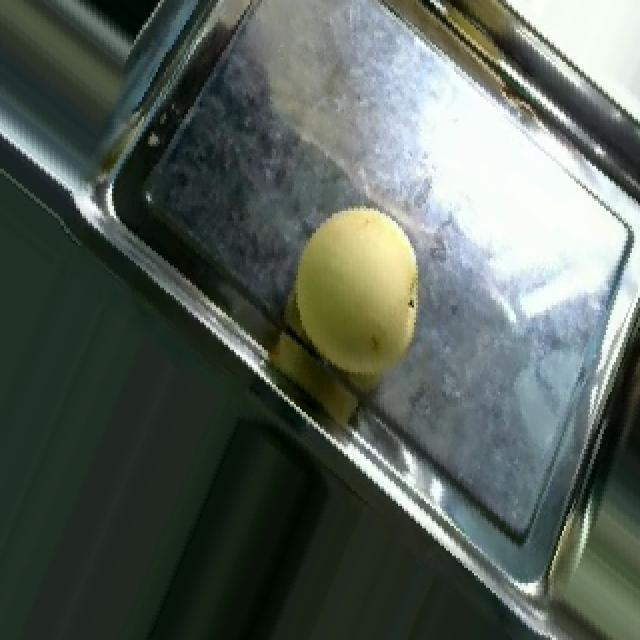Fruit: (252, 176, 454, 414)
